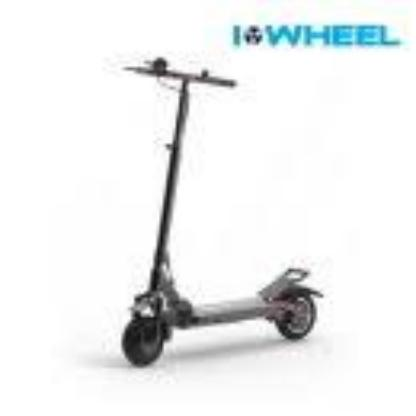bike: (119, 56, 325, 368), (121, 266, 324, 367)
